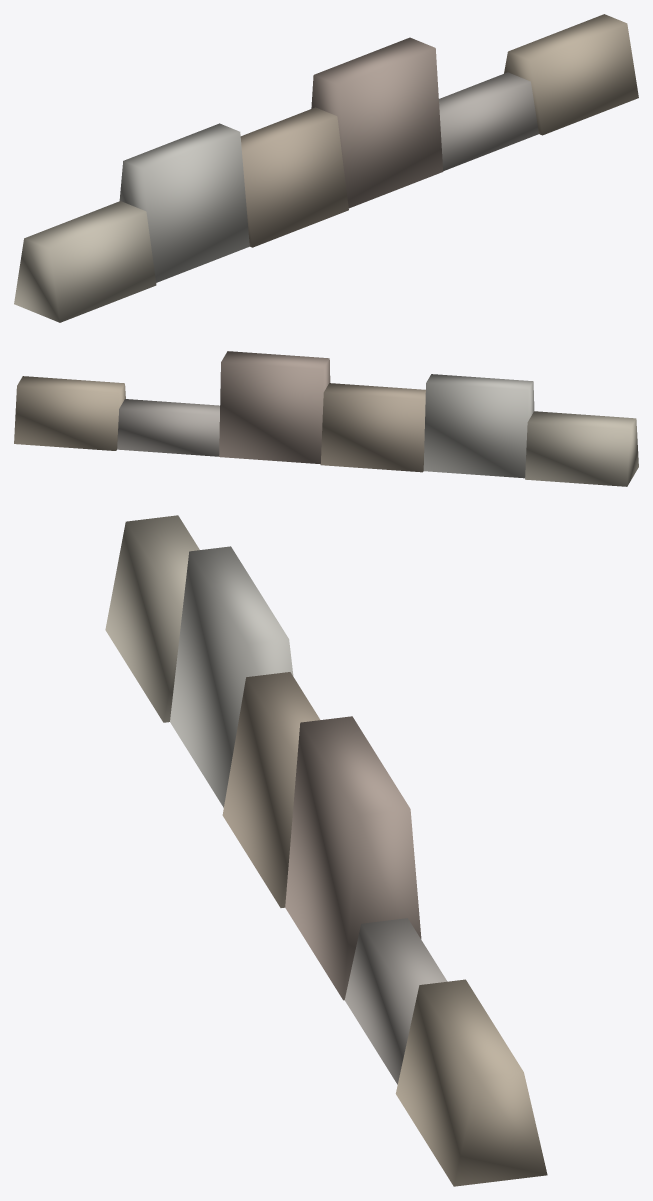
File: farm_-2_15_collision.glb
3 views of the same model, one above another, from view 1: azimuth 30°, elevation 25°; view 2: azimuth 150°, elevation 25°; view 3: azimuth 270°, elevation 25° (orthographic). The views are drawn at different scales.
Visible parts, largest first — view 1: geometry_0; view 2: geometry_0; view 3: geometry_0.
Part boxes in pixels (left/top/right/bottom): geometry_0: left=14, top=14, right=638, bottom=322; geometry_0: left=14, top=351, right=638, bottom=486; geometry_0: left=105, top=515, right=547, bottom=1186.
Bounding box in the file's own units: 9.42 × 1.72 × 3.36.
